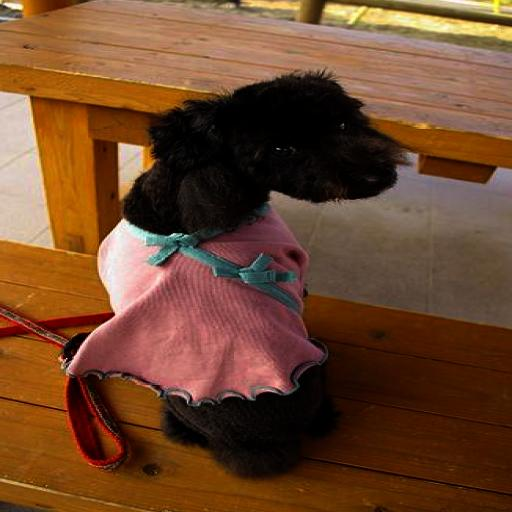dog_face: (160, 69, 420, 210)
